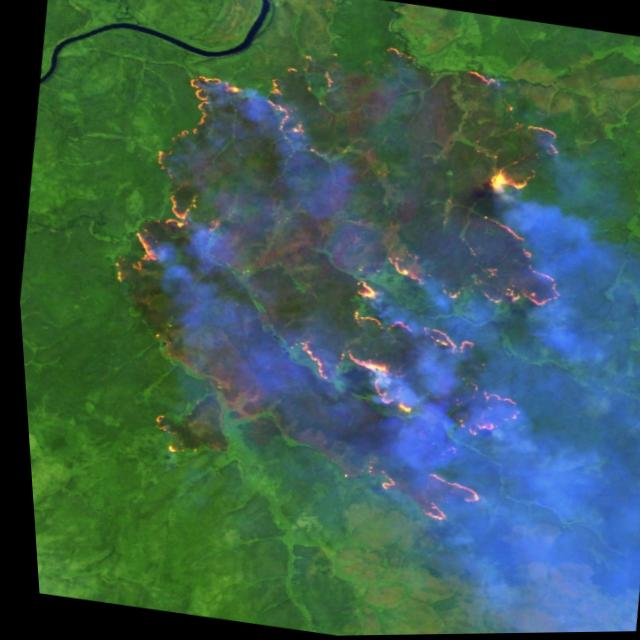fire: (46, 0, 613, 556)
